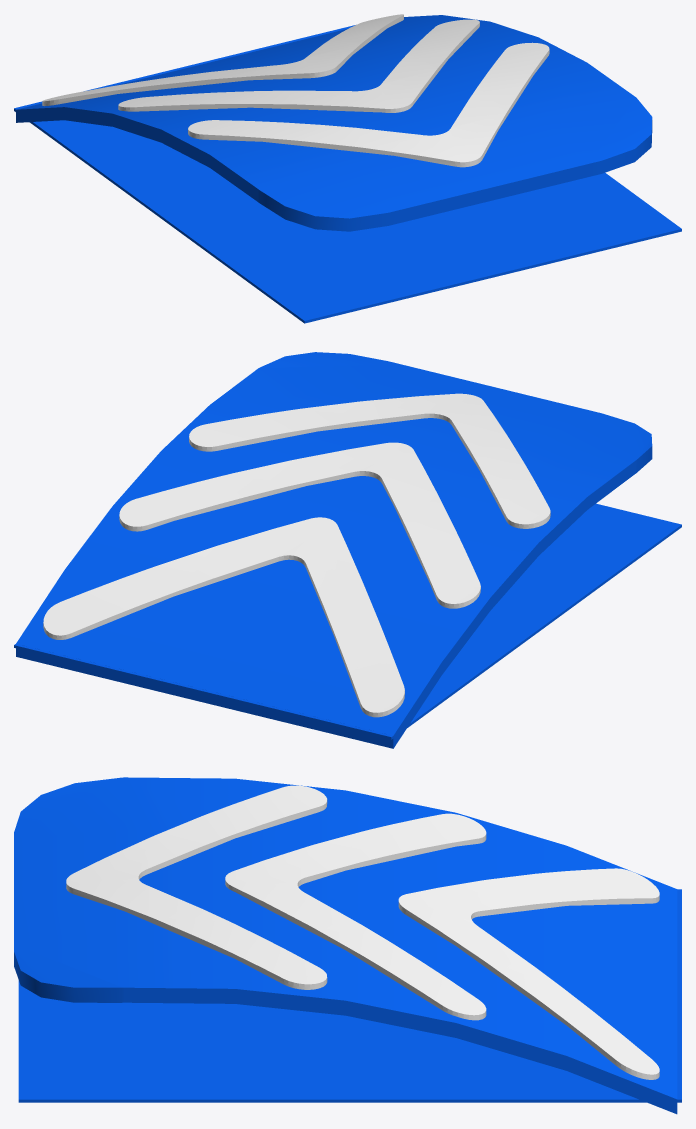
The model's file is JUMPER.FBX.
The picture shows the model from 3 angles, top to bottom: view 1: azimuth 30°, elevation 25°; view 2: azimuth 150°, elevation 25°; view 3: azimuth 270°, elevation 25°; orthographic projection. The views are drawn at different scales.
Parts seen in each view (by area): view 1: Jumper, Box006; view 2: Jumper, Box006; view 3: Jumper, Box006.
Boxes of the visible parts, bbox=[...] form: Jumper: bbox=[16, 14, 652, 231]; Box006: bbox=[14, 25, 681, 323]; Jumper: bbox=[16, 352, 652, 748]; Box006: bbox=[14, 503, 681, 739]; Jumper: bbox=[14, 777, 677, 1114]; Box006: bbox=[18, 889, 681, 1102].
Bounding box in the file's own units: 15 × 20.14 × 4.39.
